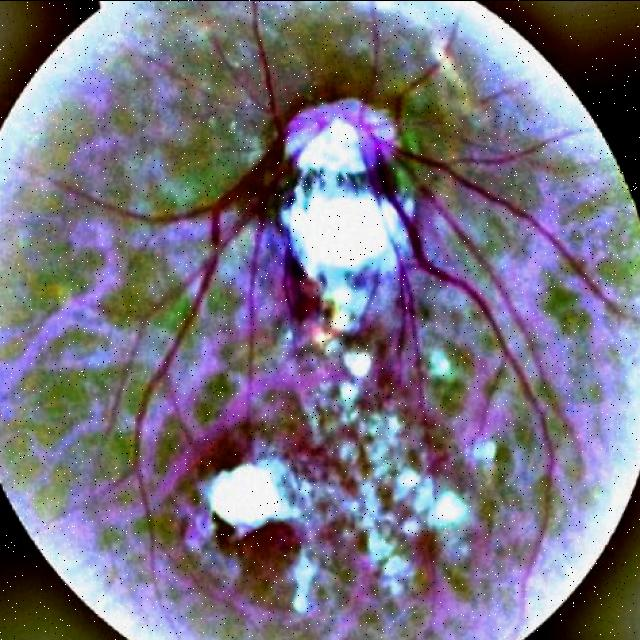Nerves: (59, 0, 632, 579)
Optic Disk: (279, 100, 421, 335)
